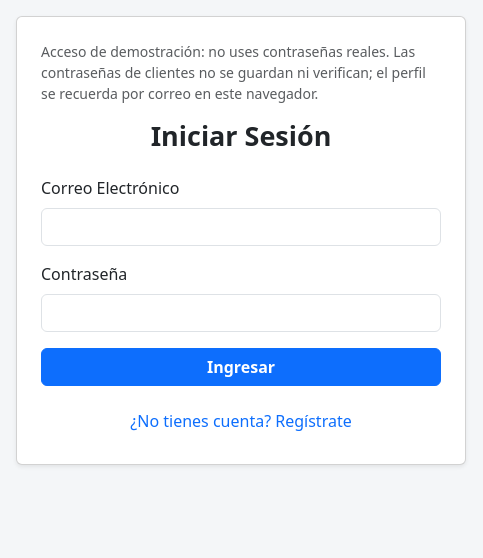
it: credenciales incorrectas no conceden el rol administrador
Type "da@gmail.com" into the field labelled "Correo Electrónico" at (241,227), box [41,208,441,246]
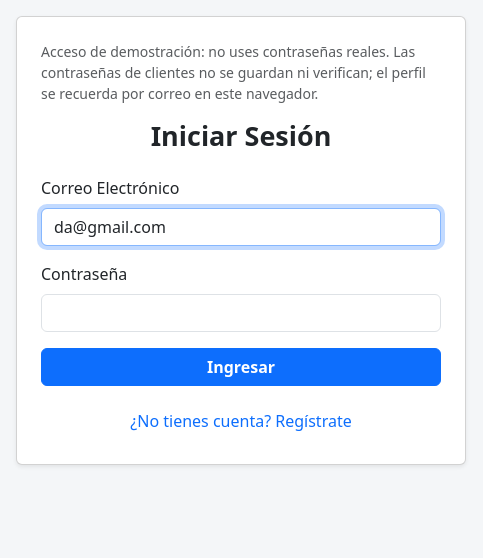
Type "incorrecta" into the password field labelled "Contraseña" at (241,313), box [41,294,441,332]
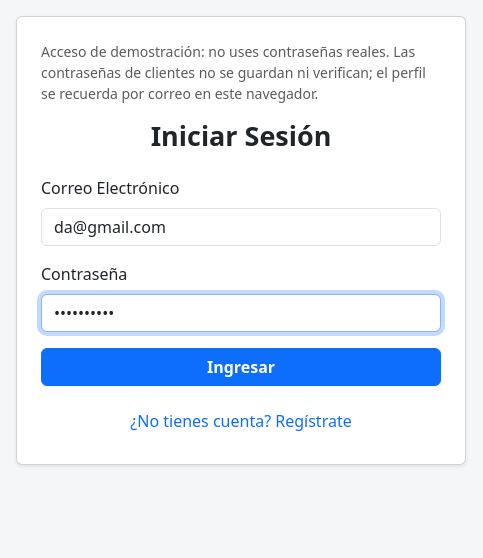
Click the button "Ingresar" at (241,367), box [41,348,441,386]
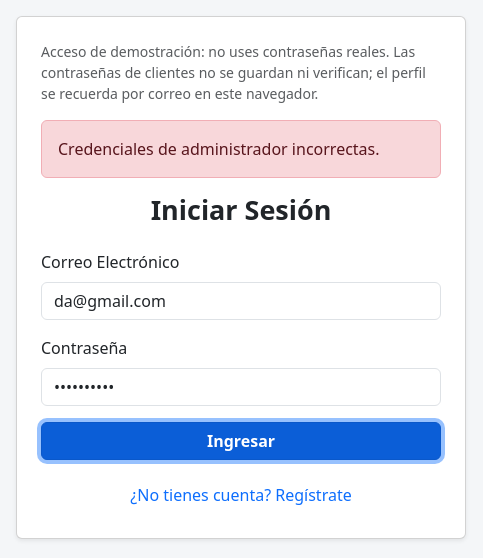
expect the message shows "incorrectas": met, box [58,138,380,160]
